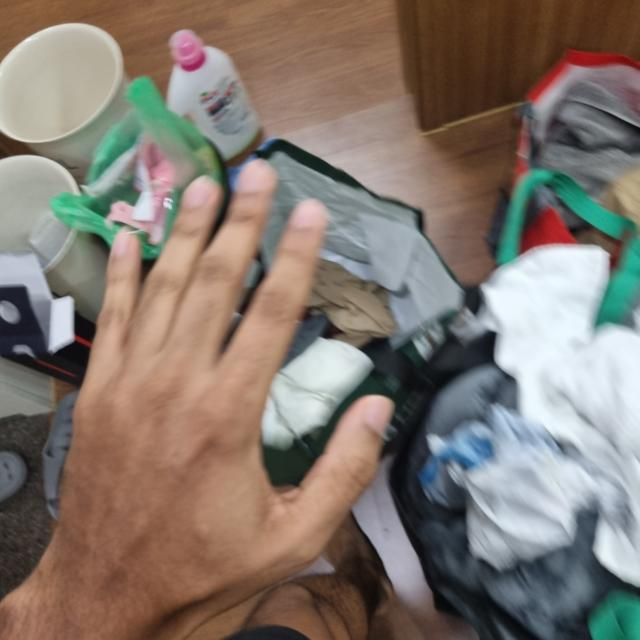Paper: (16, 163, 391, 636)
